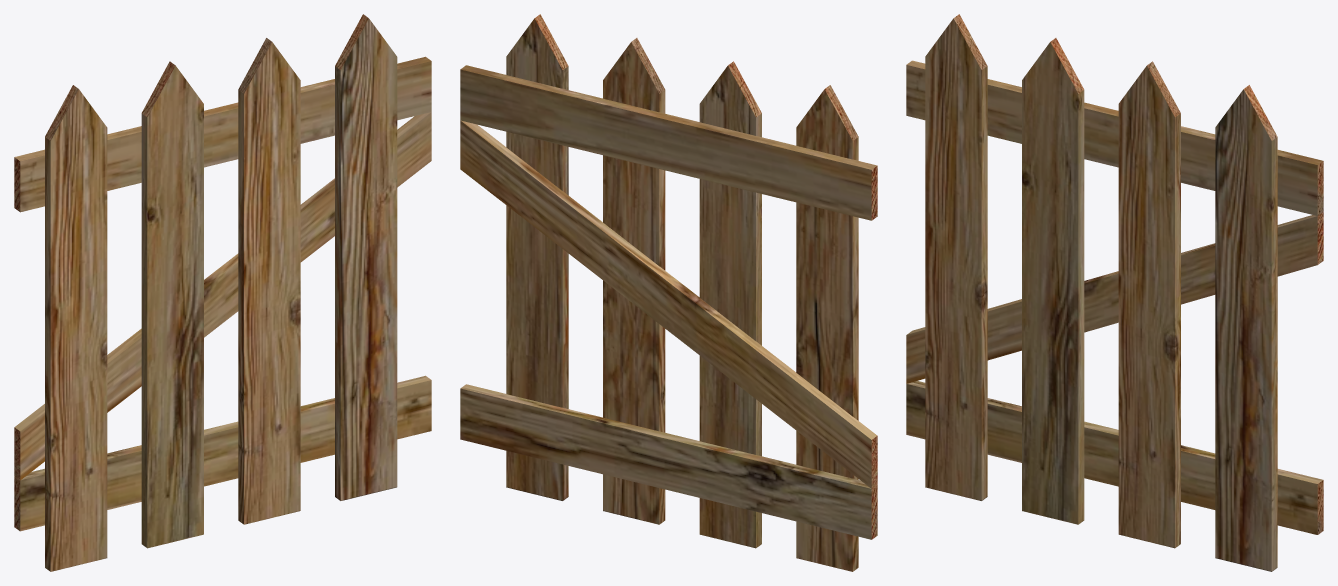
The model's file is fence_gate.glb.
The picture shows the model from 3 angles, left to right: view 1: azimuth 30°, elevation 25°; view 2: azimuth 150°, elevation 25°; view 3: azimuth 330°, elevation 25°; orthographic projection.
Parts seen in each view (by area): view 1: GateStyle1_Wood_T_0; view 2: GateStyle1_Wood_T_0; view 3: GateStyle1_Wood_T_0.
Part boxes in pixels (x1,y1,x2,y2): GateStyle1_Wood_T_0: (14,14,431,571); GateStyle1_Wood_T_0: (460,14,877,571); GateStyle1_Wood_T_0: (906,14,1323,571).
Size of the model in its own units: 0.8226 by 0.9093 by 0.0404.
Materials: 1 (1 with a texture image).
